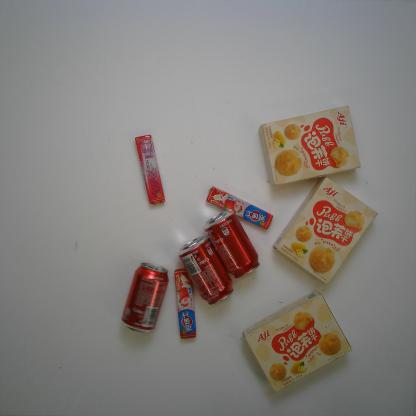Candy: (206, 186, 273, 230), (135, 134, 165, 205), (174, 267, 197, 339)
Dessert: (272, 176, 378, 284), (243, 290, 352, 392), (259, 106, 362, 186)
Drink: (178, 235, 234, 305), (204, 210, 260, 279), (120, 262, 169, 334)
